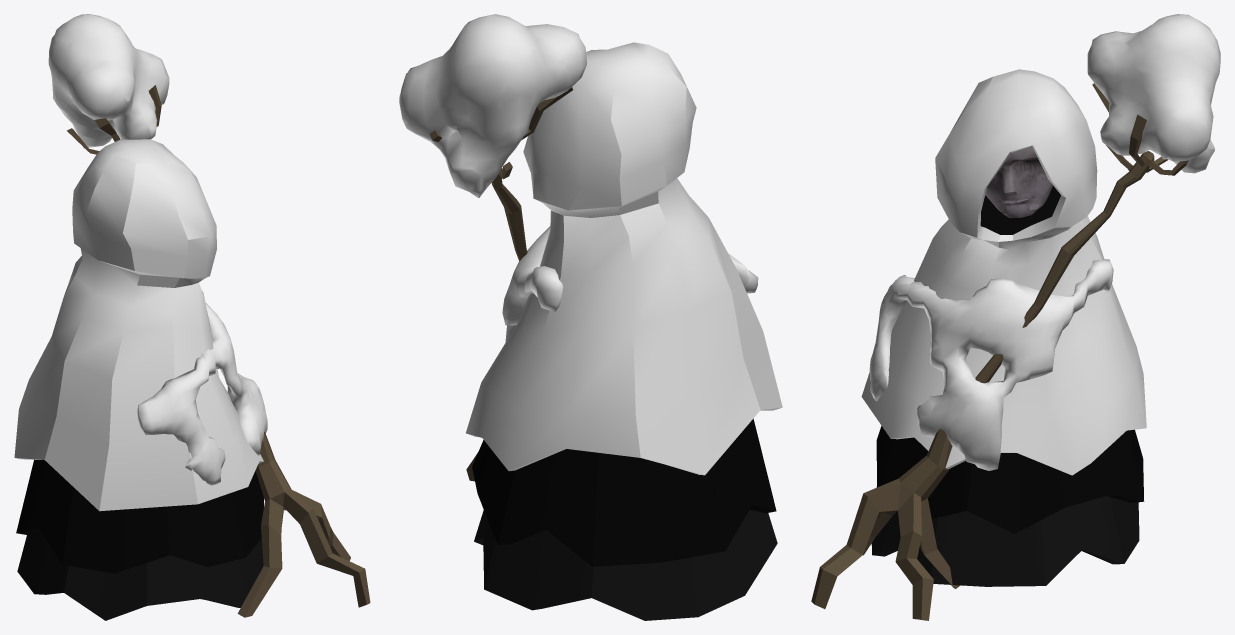
The model's file is pilgrim3.fbx.
The picture shows the model from 3 angles, left to right: view 1: azimuth 30°, elevation 25°; view 2: azimuth 150°, elevation 25°; view 3: azimuth 270°, elevation 25°; orthographic projection. The views are drawn at different scales.
Parts seen in each view (by area): view 1: hood, hood2, blobs_posoh, hood1, blobs_body, posoh; view 2: hood, hood2, blobs_posoh, hood1, blobs_body, posoh; view 3: hood, blobs_body, blobs_posoh, hood1, posoh, hood2, actual face, blackout.
Boxes of the visible parts, left/top/right/bottom form: hood: left=14, top=139, right=263, bottom=511; hood2: left=16, top=459, right=263, bottom=573; blobs_posoh: left=48, top=14, right=169, bottom=148; hood1: left=17, top=531, right=263, bottom=620; blobs_body: left=137, top=303, right=267, bottom=485; posoh: left=67, top=85, right=370, bottom=617; hood: left=466, top=42, right=782, bottom=475; hood2: left=472, top=418, right=776, bottom=566; blobs_posoh: left=399, top=14, right=586, bottom=197; hood1: left=474, top=509, right=777, bottom=620; blobs_body: left=502, top=226, right=758, bottom=342; posoh: left=429, top=87, right=572, bottom=481; hood: left=861, top=69, right=1146, bottom=475; blobs_body: left=869, top=259, right=1113, bottom=470; blobs_posoh: left=1087, top=14, right=1220, bottom=173; hood1: left=871, top=487, right=1139, bottom=586; posoh: left=811, top=83, right=1188, bottom=620; hood2: left=876, top=426, right=1144, bottom=533; actual face: left=985, top=146, right=1052, bottom=217; blackout: left=980, top=185, right=1060, bottom=234.
Bounding box in the file's own units: 244 × 423 × 294.
7 materials, 1 textured.
